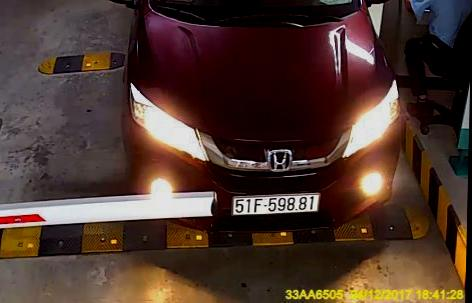License_Plate: (230, 189, 325, 223)
